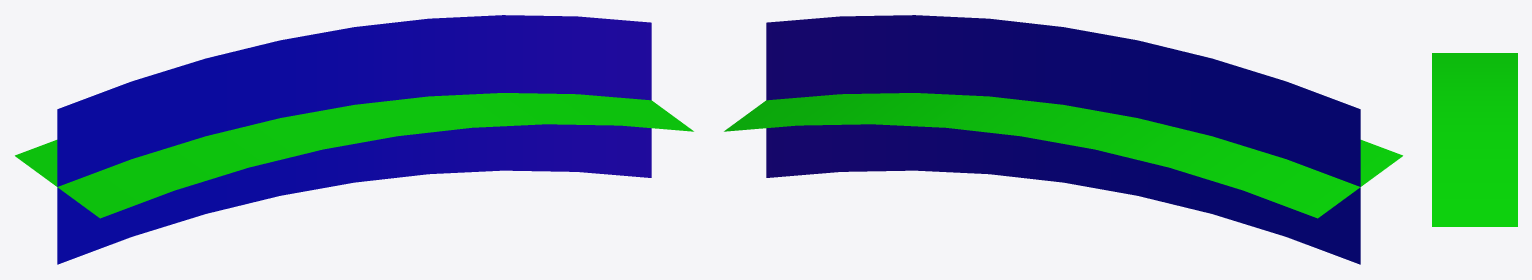
The model's file is uni_firestreak.fbx.
3 renders of one model, left to right at view 1: azimuth 30°, elevation 25°; view 2: azimuth 150°, elevation 25°; view 3: azimuth 270°, elevation 25°, orthographic. The views are drawn at different scales.
Visible parts, largest first — view 1: uni_firestreak; view 2: uni_firestreak; view 3: uni_firestreak.
Boxes of the visible parts, box(x1,y1,x2,y2) form: uni_firestreak: box(15, 15, 693, 264); uni_firestreak: box(724, 15, 1402, 264); uni_firestreak: box(1432, 53, 1517, 226).
Bounding box in the file's own units: 12800 × 3200 × 4700.
